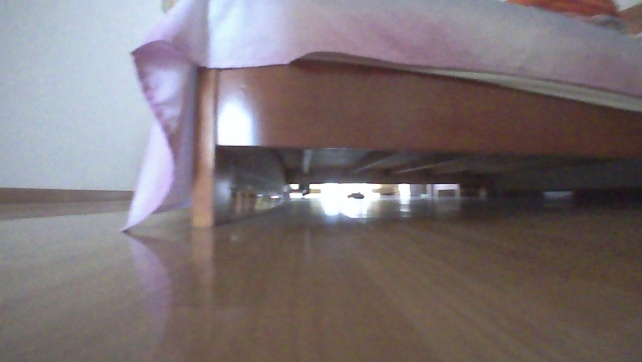bed1: (112, 0, 641, 236)
